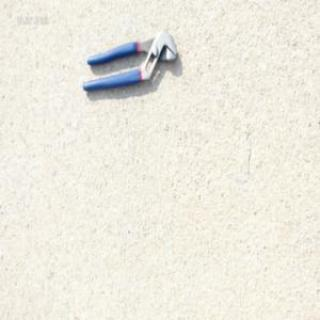Pliertrack_idkeyframe: (81, 27, 177, 92)
